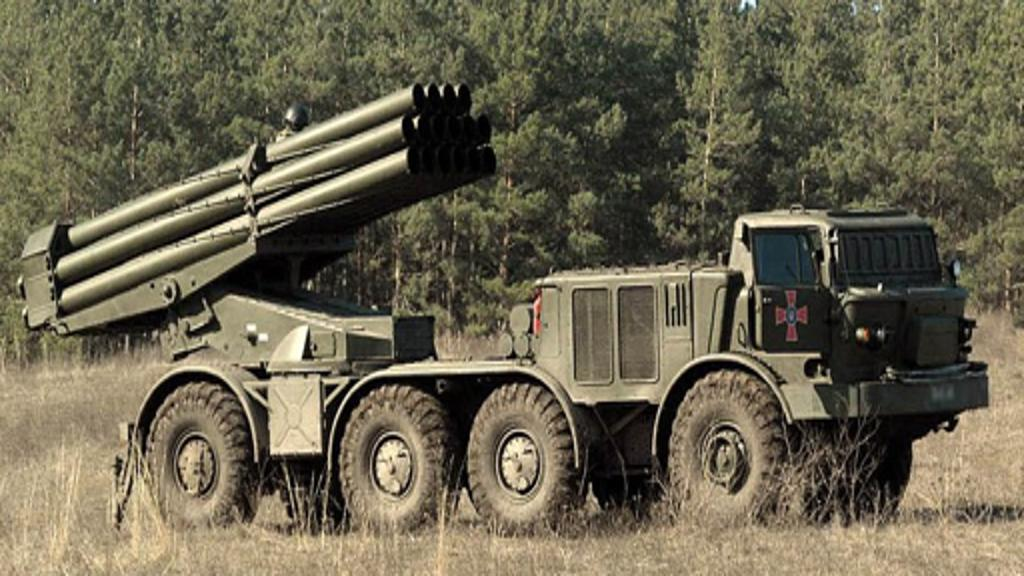MLRS: (14, 80, 990, 520)
